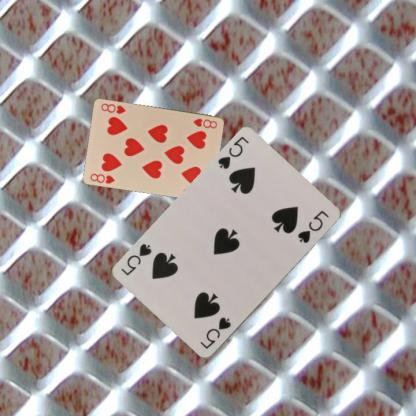5s: (215, 133, 251, 171), (198, 314, 232, 351)
8h: (88, 170, 116, 185), (191, 116, 218, 130)
